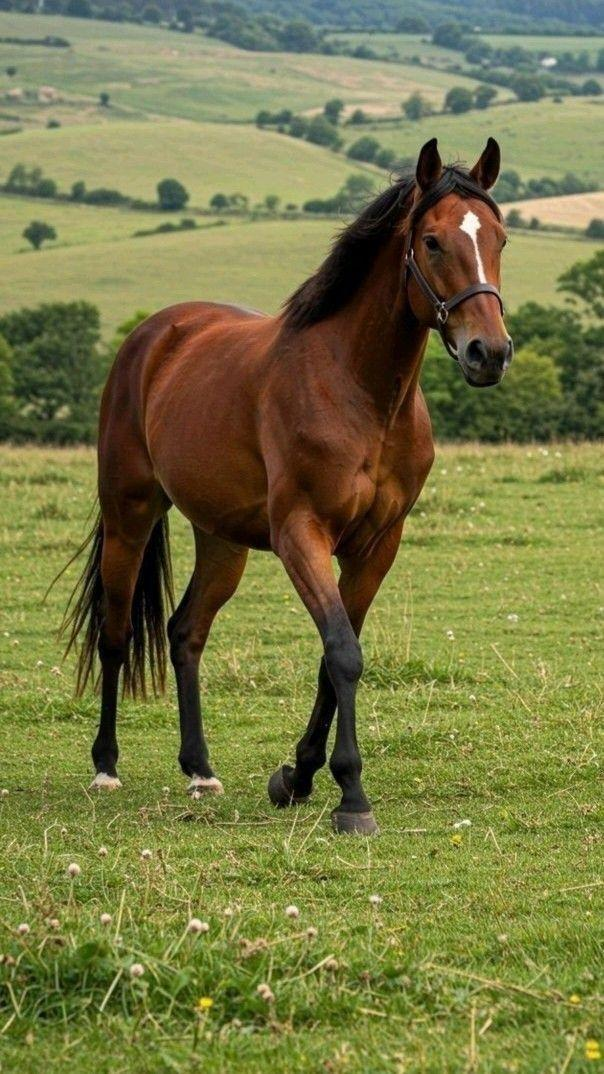horse: (69, 139, 511, 832)
